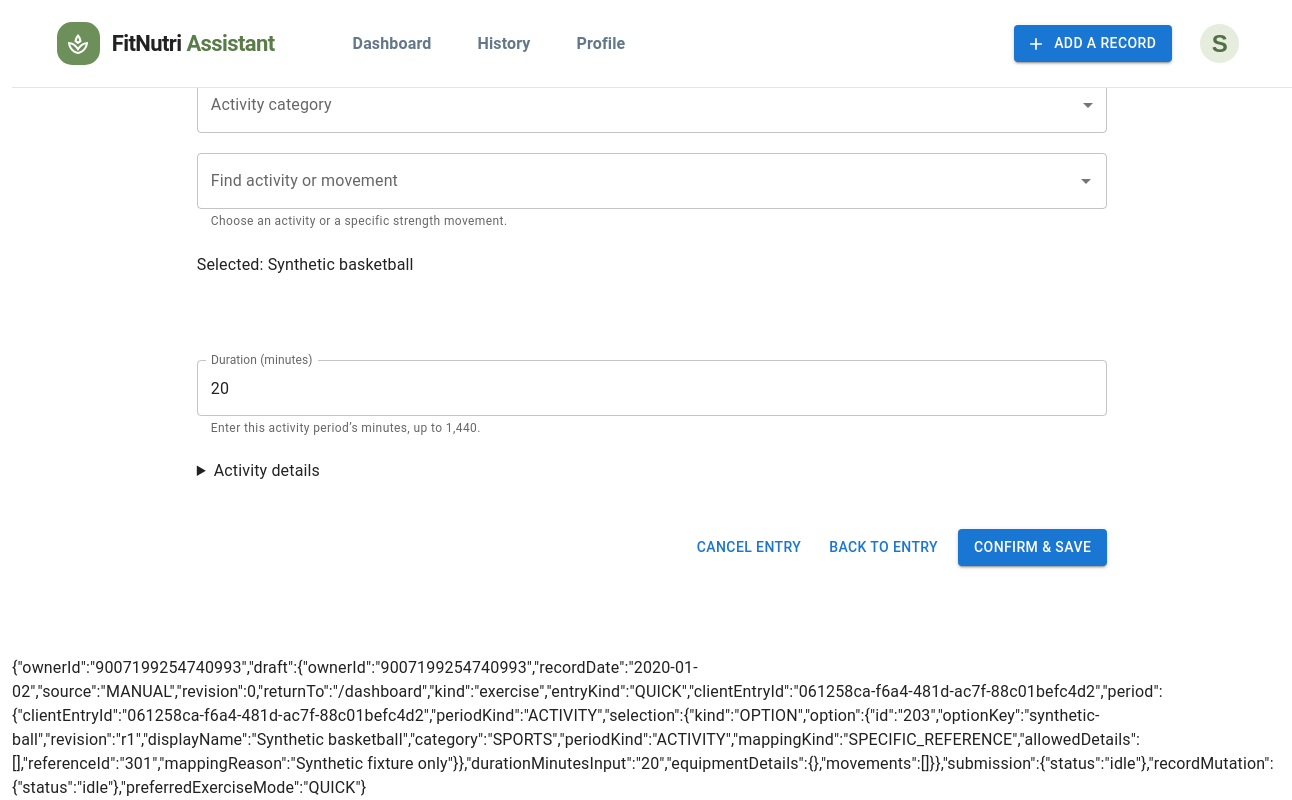
Scenario: returns Quick success to Dashboard without retaining a submitted editor
(page scrolled)
Click the button "Confirm & save" at (1033, 547), box [958,529,1107,566]
(page scrolled)
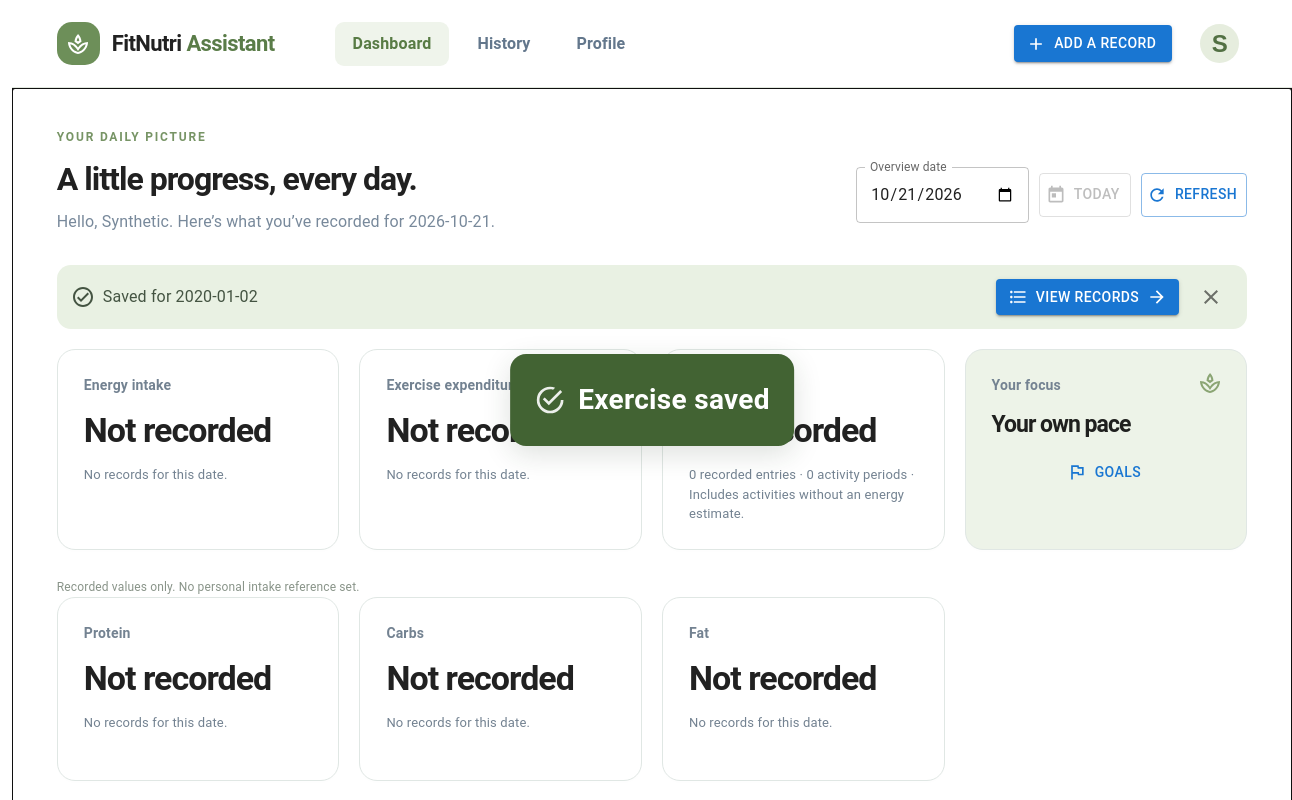
Now the heading "A little progress, every day." is shown, box [57,160,417,198]
Now the label labelled "Duration (minutes)" is gone
